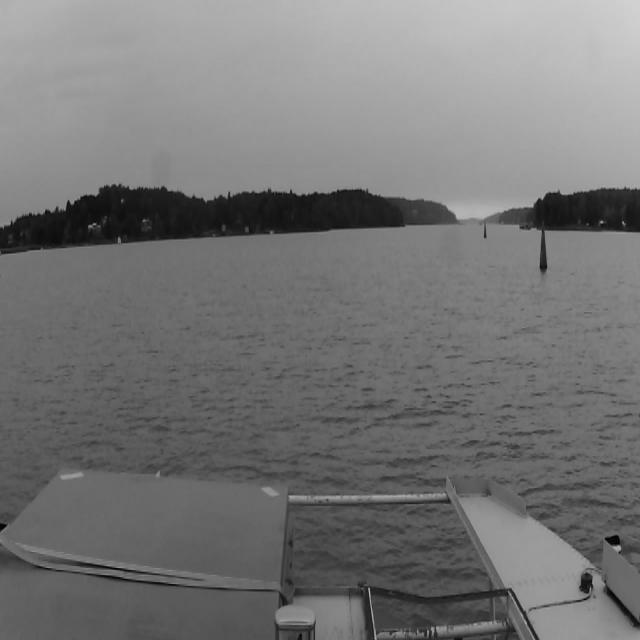buoy: (540, 226, 548, 268), (484, 222, 486, 238)
